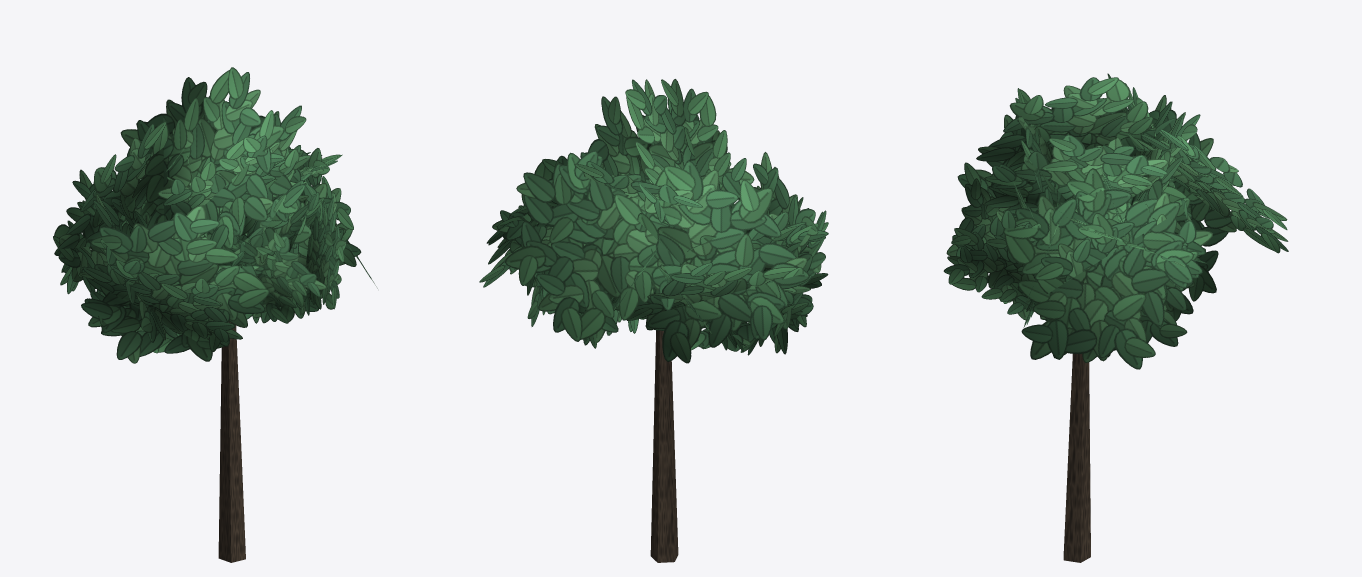
The model's file is carpino_1_leggero.glb.
3 renders of one model, left to right at view 1: azimuth 30°, elevation 25°; view 2: azimuth 150°, elevation 25°; view 3: azimuth 270°, elevation 25°, orthographic. The views are drawn at different scales.
Visible parts, largest first — view 1: carpino_1_leggero; view 2: carpino_1_leggero; view 3: carpino_1_leggero.
Boxes of the visible parts, box(x1,y1,x2,y2) form: carpino_1_leggero: box(53, 67, 377, 562); carpino_1_leggero: box(479, 79, 828, 562); carpino_1_leggero: box(943, 73, 1288, 562).
Size of the model in its own units: 8.61 by 10.85 by 8.23.
2 materials, 2 textured.
